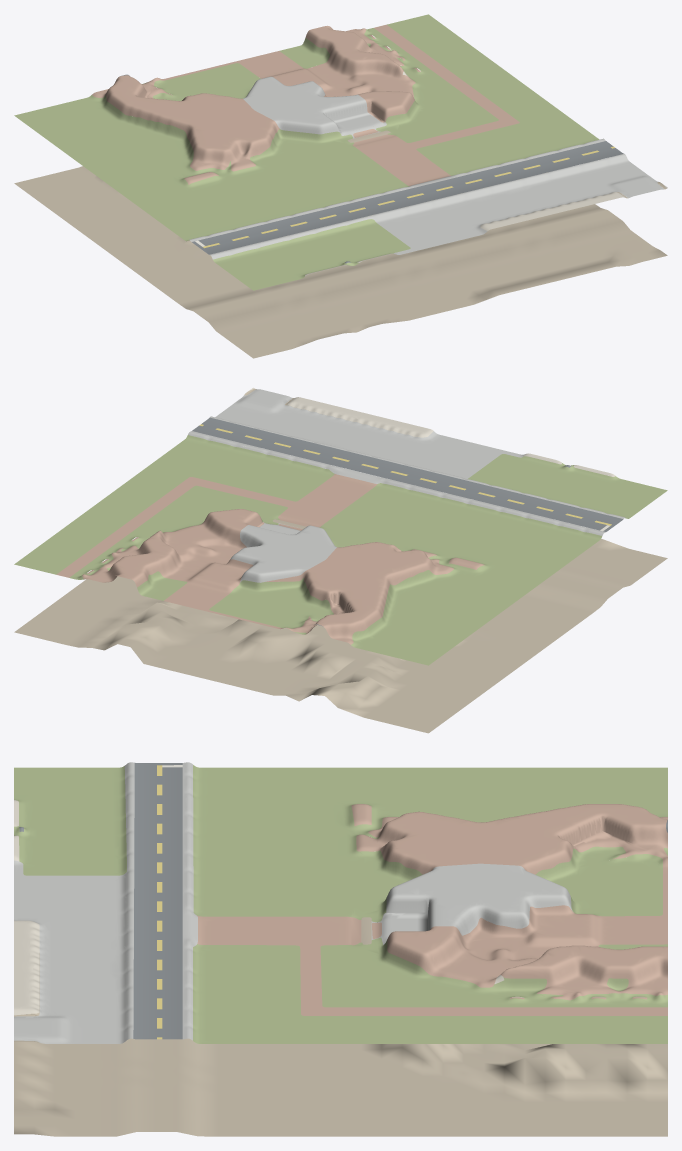
The picture shows the model from 3 angles, top to bottom: view 1: azimuth 30°, elevation 25°; view 2: azimuth 150°, elevation 25°; view 3: azimuth 270°, elevation 25°; orthographic projection. The views are drawn at different scales.
Visible parts, largest first — view 1: s_-10_-5__grass, s_-10_-5__soil, s_-10_-5__brick_paving, s_-10_-5__stone_paving, s_-10_-5__asphalt, s_-10_-5__paving, s_-10_-5__yellow_marking; view 2: s_-10_-5__grass, s_-10_-5__soil, s_-10_-5__brick_paving, s_-10_-5__stone_paving, s_-10_-5__asphalt, s_-10_-5__paving, s_-10_-5__yellow_marking; view 3: s_-10_-5__grass, s_-10_-5__soil, s_-10_-5__brick_paving, s_-10_-5__stone_paving, s_-10_-5__asphalt, s_-10_-5__paving, s_-10_-5__yellow_marking.
Boxes of the visible parts, x1,y1,x2,y2 form: s_-10_-5__grass: (14, 14, 599, 290); s_-10_-5__soil: (14, 130, 667, 358); s_-10_-5__brick_paving: (92, 24, 519, 186); s_-10_-5__stone_paving: (189, 76, 664, 259); s_-10_-5__asphalt: (119, 74, 623, 263); s_-10_-5__paving: (305, 71, 667, 276); s_-10_-5__yellow_marking: (203, 146, 615, 248); s_-10_-5__grass: (14, 435, 667, 665); s_-10_-5__soil: (14, 388, 667, 733); s_-10_-5__brick_paving: (56, 474, 484, 644); s_-10_-5__stone_paving: (188, 389, 625, 582); s_-10_-5__asphalt: (192, 417, 623, 626); s_-10_-5__paving: (249, 387, 615, 476); s_-10_-5__yellow_marking: (199, 424, 611, 525); s_-10_-5__grass: (14, 765, 667, 1043); s_-10_-5__soil: (14, 917, 667, 1136); s_-10_-5__brick_paving: (197, 804, 667, 1015); s_-10_-5__stone_paving: (14, 762, 572, 1043); s_-10_-5__asphalt: (19, 763, 667, 1039); s_-10_-5__paving: (14, 800, 504, 1015); s_-10_-5__yellow_marking: (157, 765, 162, 1039).
Bounding box in the file's own units: 128 × 24.15 × 128.
